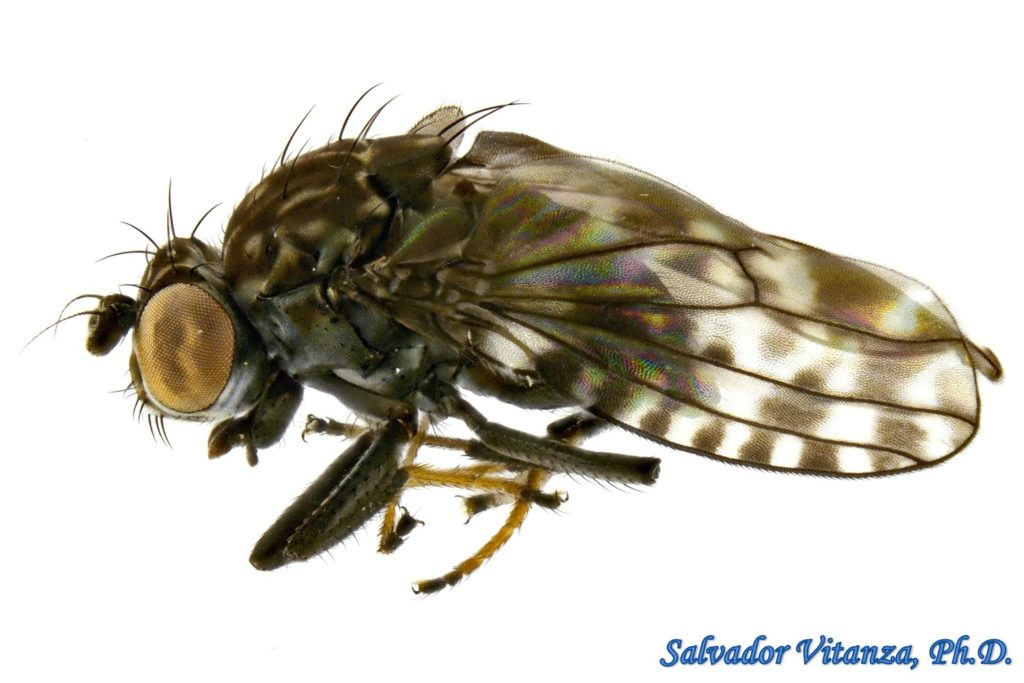Ephydridae: (23, 84, 1009, 597)
